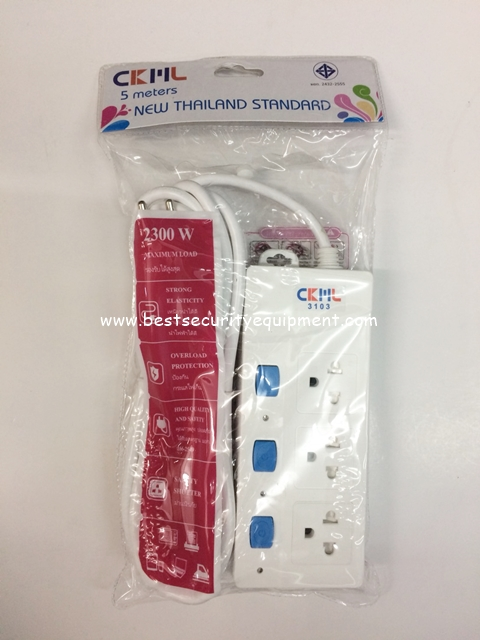Three_eye_plug: (225, 245, 385, 608)
